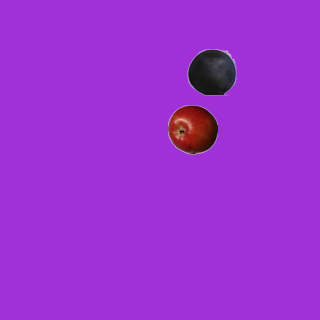Apple Braeburn: (167, 104, 217, 154)
Grape Blue: (186, 46, 236, 96)
